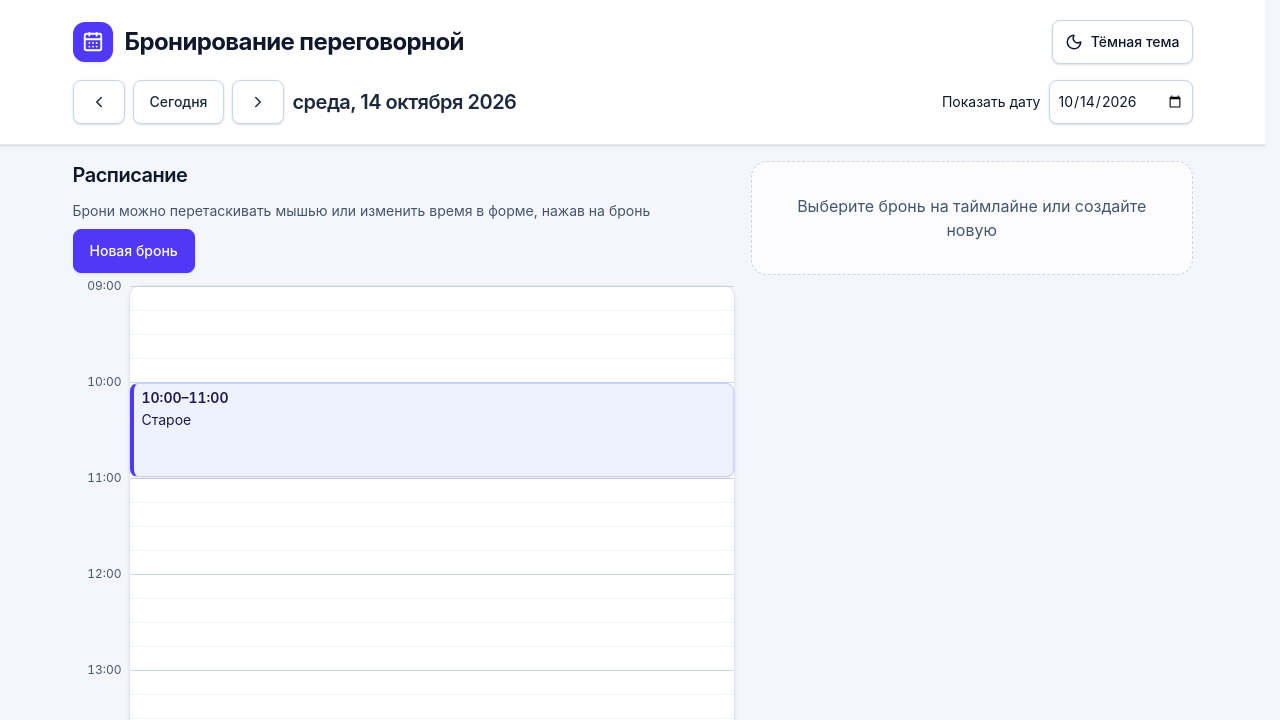
it: 8. server-side BOOKING_LOCKED › switches to the read-only view and shows the unsaved changes
Click the button "10:00–11:00 Старое" at (185, 398), box x1=130 y1=383 x2=734 y2=477
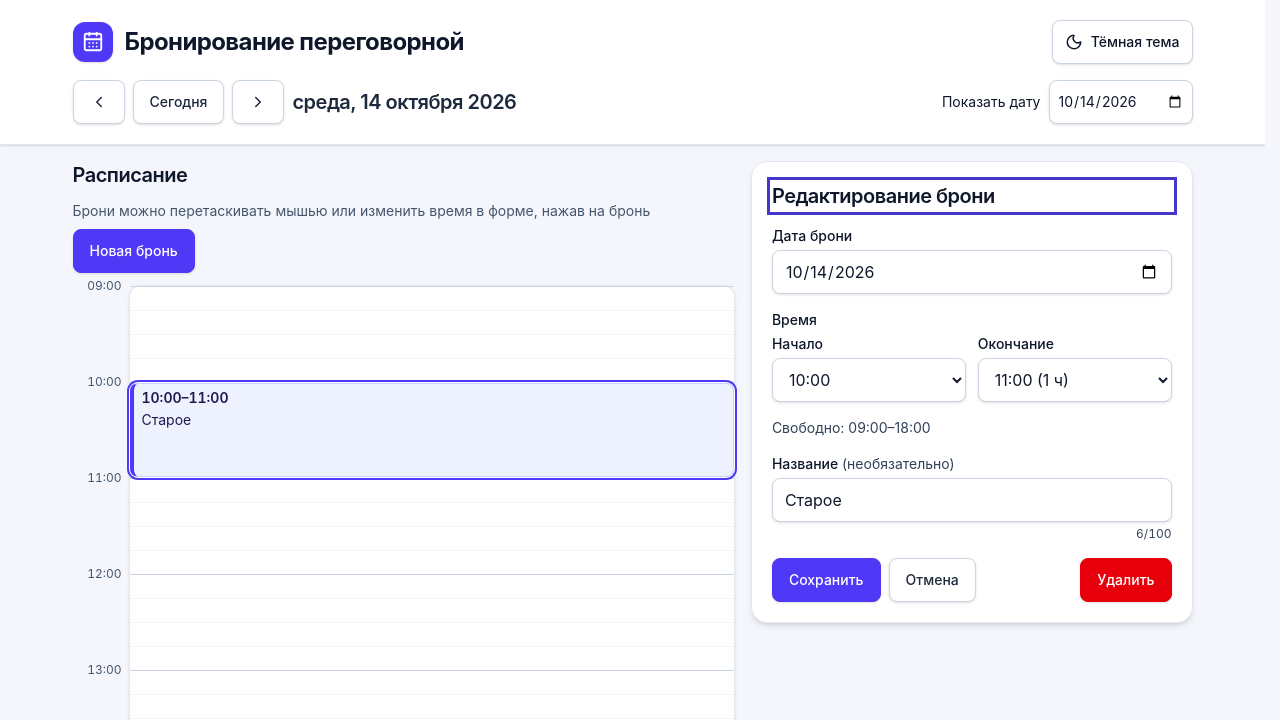
Check: the heading "Редактирование брони" is shown, box x1=772 y1=184 x2=995 y2=208
Select "11:30 (1 ч 30 мин)" in the dropdown labelled "Окончание" at (1075, 380), box x1=978 y1=358 x2=1172 y2=402
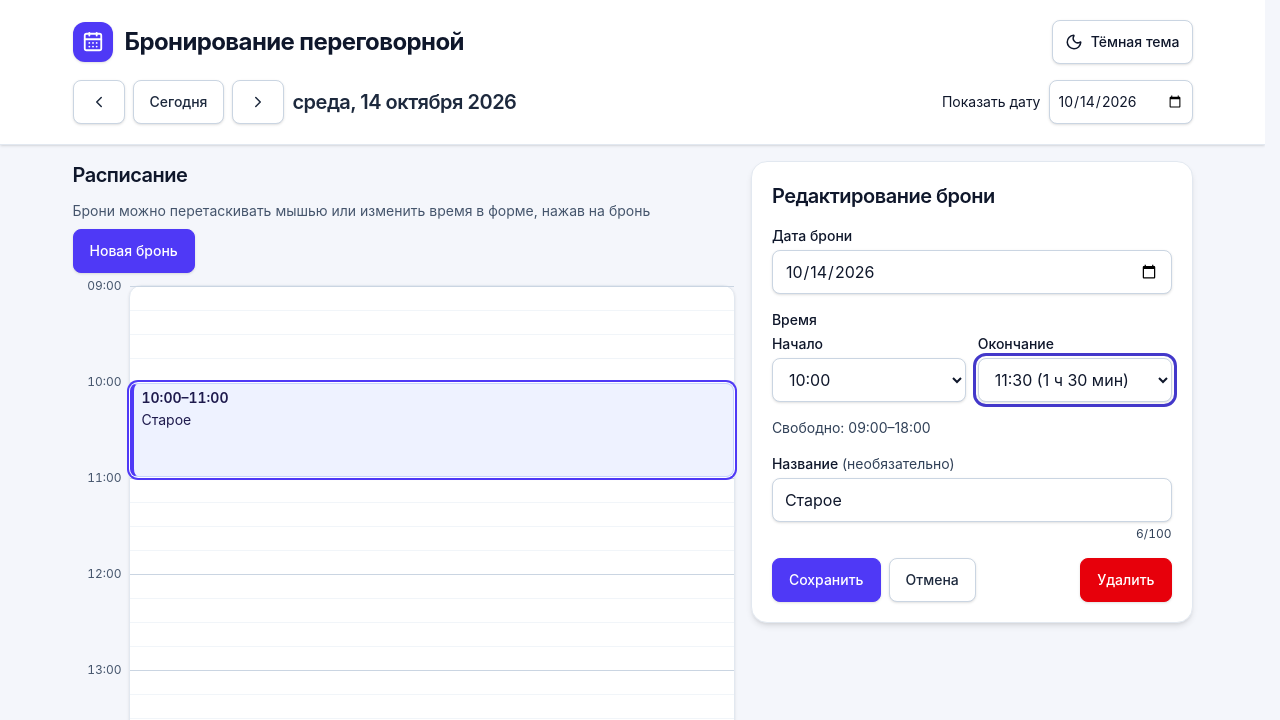
Replace the text in the field labelled "Название (необязательно)" with "Новое" at (972, 500), box x1=772 y1=478 x2=1172 y2=522
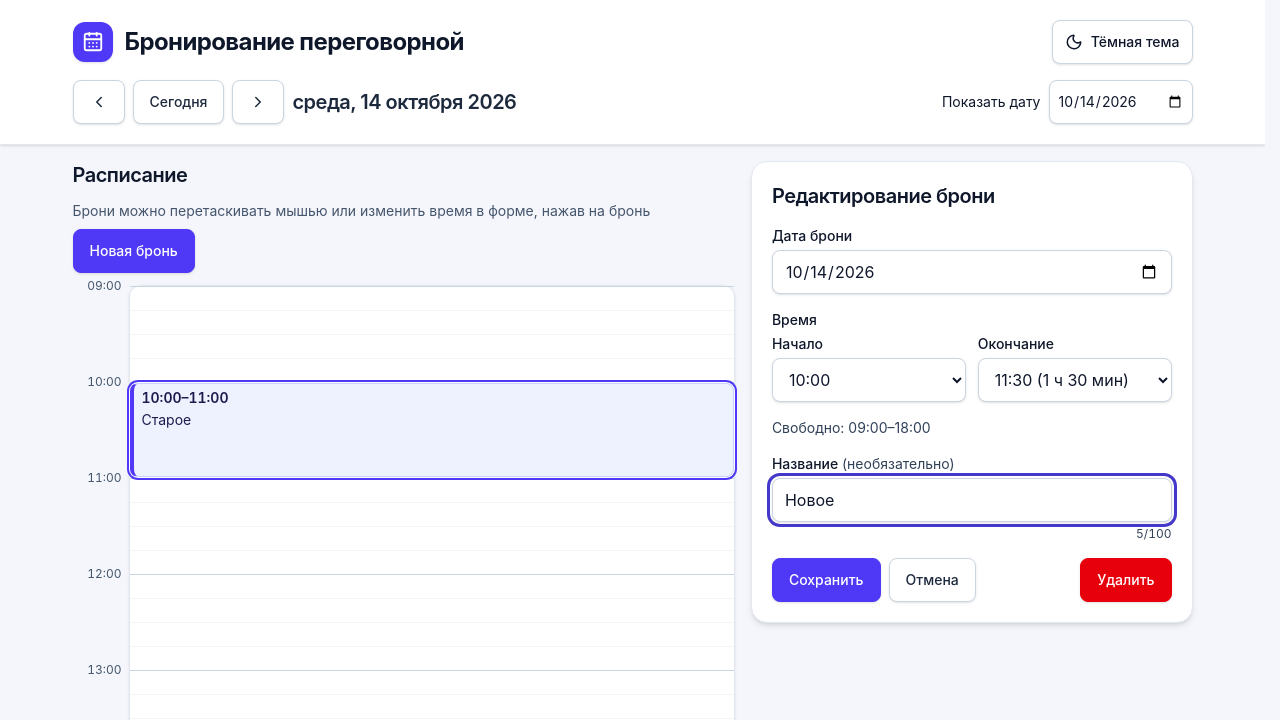
Click the button "Сохранить" at (826, 580), box x1=772 y1=558 x2=881 y2=602
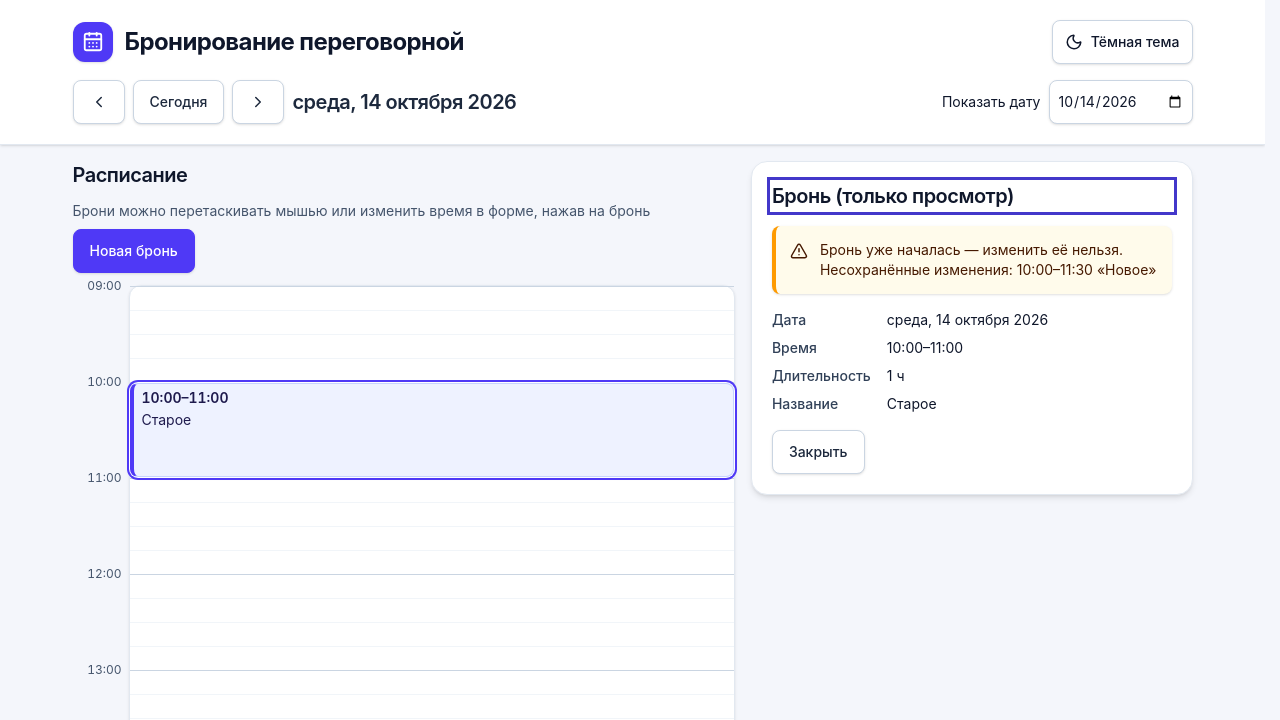
Check: the heading "Бронь (только просмотр)" is shown, box x1=772 y1=184 x2=1014 y2=208
Check: the message shows "Бронь уже началась — изменить её нельзя.", box x1=820 y1=241 x2=1123 y2=258
Check: the message shows "10:00–11:30 «Новое»", box x1=1017 y1=261 x2=1156 y2=278
